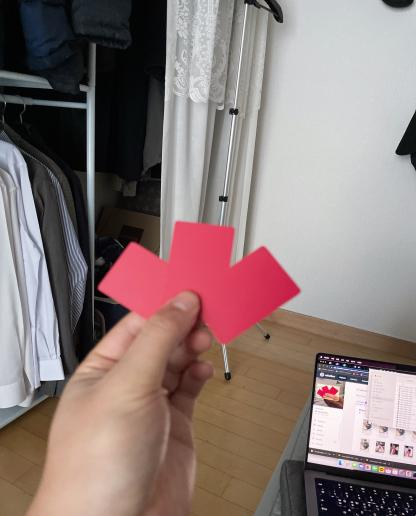ThreeHwatoo: (72, 194, 307, 355)
